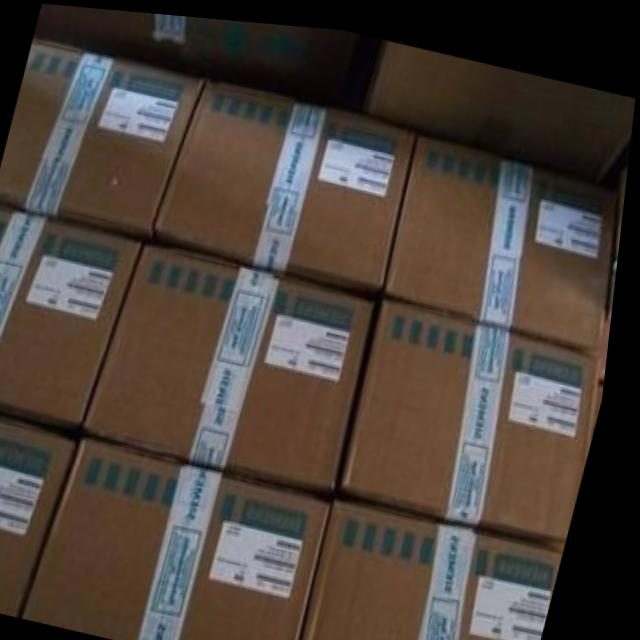box: (92, 235, 384, 488), (34, 434, 342, 640), (348, 294, 604, 537), (157, 74, 420, 291), (387, 128, 622, 339), (0, 36, 209, 235), (313, 489, 574, 640), (365, 38, 636, 175), (35, 3, 371, 105), (0, 205, 149, 431), (0, 415, 90, 614)
